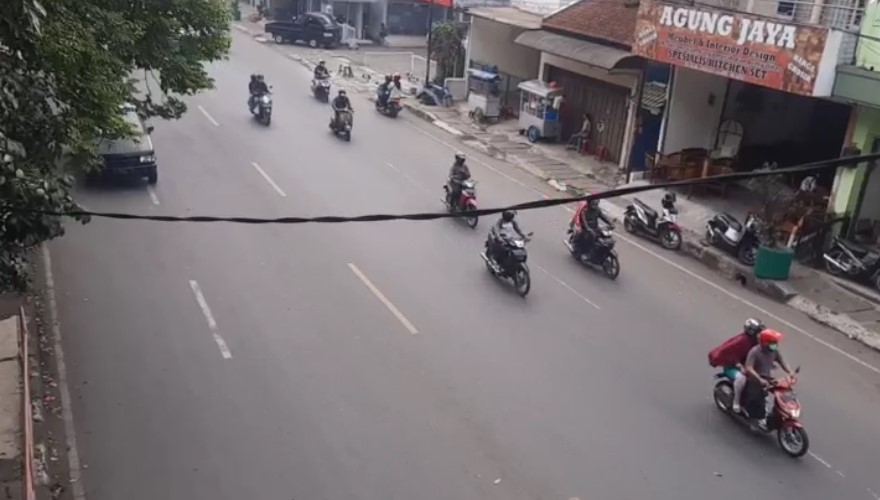motor: (713, 314, 817, 461), (483, 209, 540, 301), (566, 190, 623, 280), (441, 147, 481, 230), (325, 91, 363, 144), (246, 75, 275, 126)
